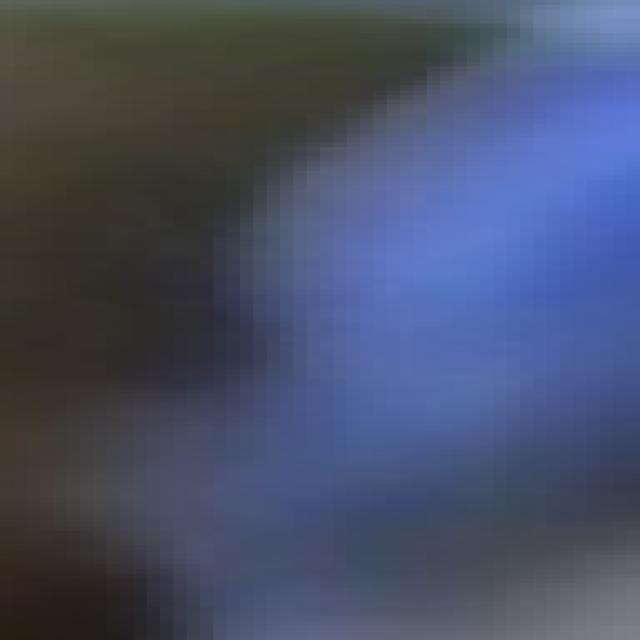fish: (0, 0, 627, 640)
